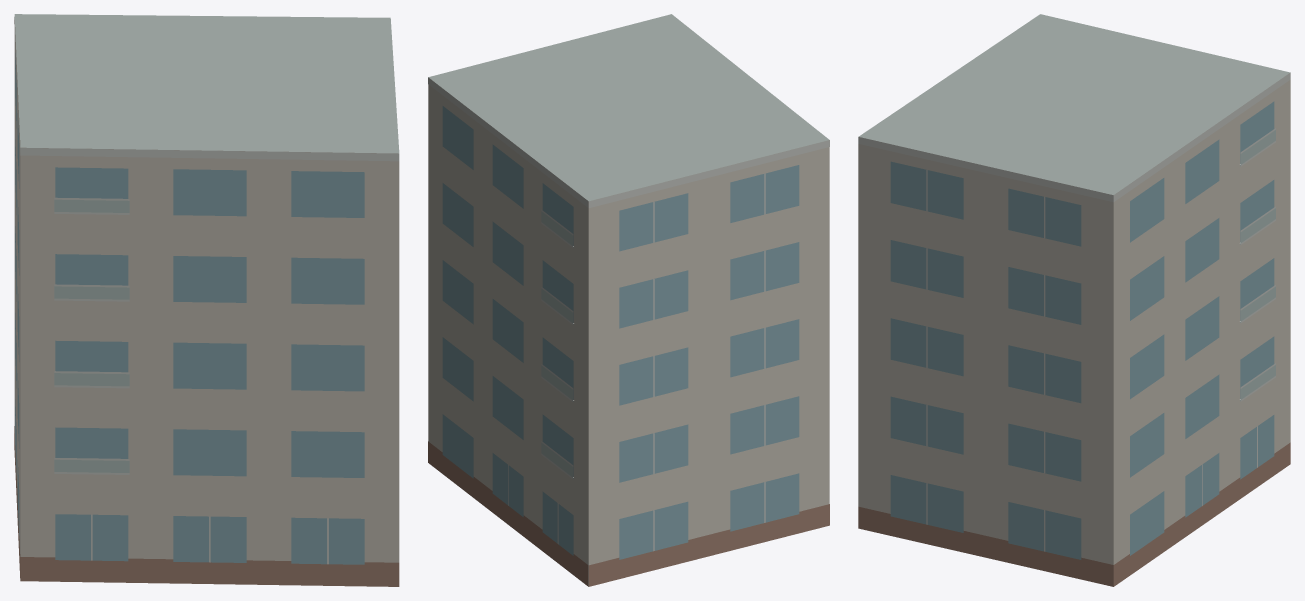
The model's file is survey-upis-32695730.glb.
The picture shows the model from 3 angles, left to right: view 1: azimuth 30°, elevation 25°; view 2: azimuth 150°, elevation 25°; view 3: azimuth 270°, elevation 25°; orthographic projection. The views are drawn at different scales.
Parts seen in each view (by area): view 1: survey-upis-32695730.tmp; view 2: survey-upis-32695730.tmp; view 3: survey-upis-32695730.tmp.
Boxes of the visible parts, bbox=[...] form: survey-upis-32695730.tmp: bbox=[14, 14, 399, 586]; survey-upis-32695730.tmp: bbox=[428, 14, 829, 586]; survey-upis-32695730.tmp: bbox=[858, 14, 1290, 586].
Size of the model in its own units: 13.4 by 13.5 by 13.51.
